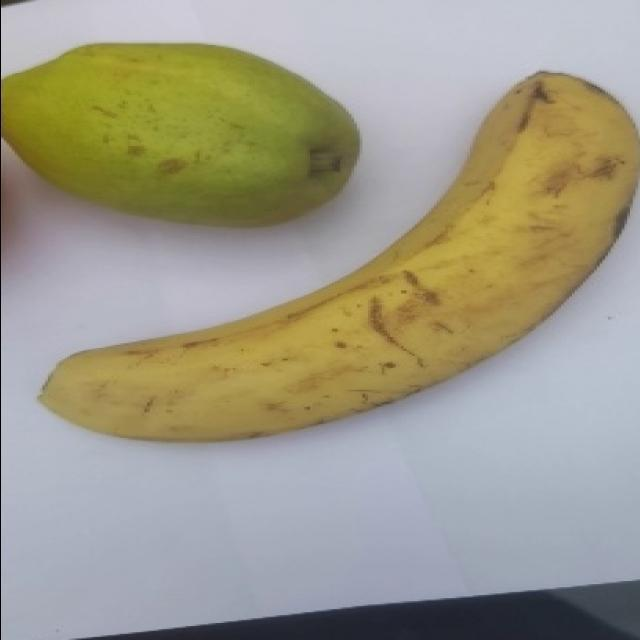Banana: (39, 69, 640, 443)
